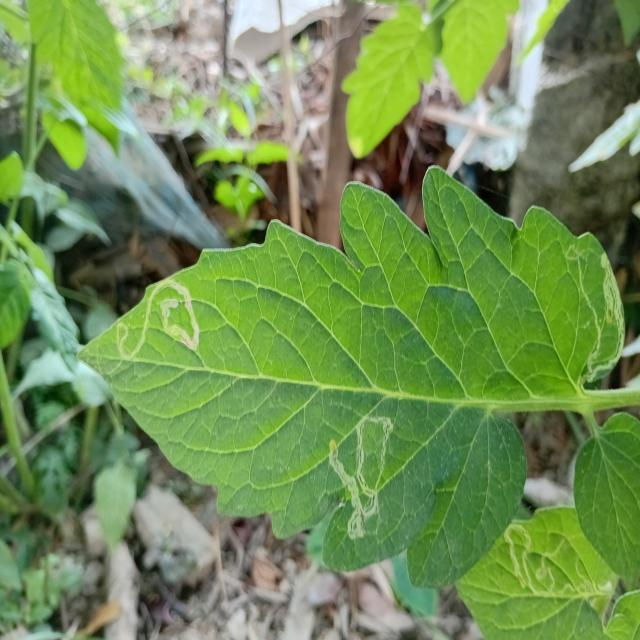Tuta absoluta: (490, 521, 615, 613), (104, 275, 205, 371), (323, 413, 394, 542), (583, 253, 635, 386)
